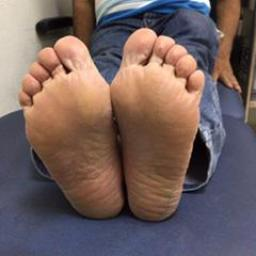Plantar View -Both Feet-: (15, 21, 207, 237)
